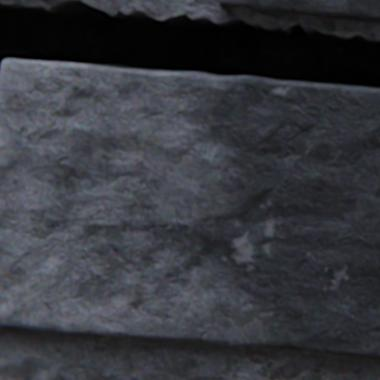brick: (0, 59, 379, 356), (220, 0, 379, 21)
crack: (0, 0, 379, 88)
